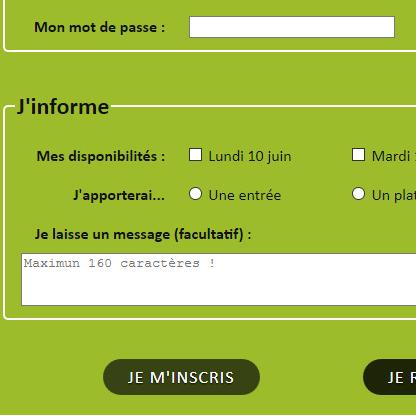button: (103, 359, 262, 396)
checkbox: (348, 146, 367, 162), (187, 147, 203, 162)
checkbox_with_label: (185, 146, 290, 164)
field: (187, 15, 395, 39)
field_with_label: (31, 13, 401, 42)
radio: (188, 186, 206, 201), (350, 186, 366, 202)
radio_with_label: (184, 183, 281, 204), (345, 182, 416, 204)
